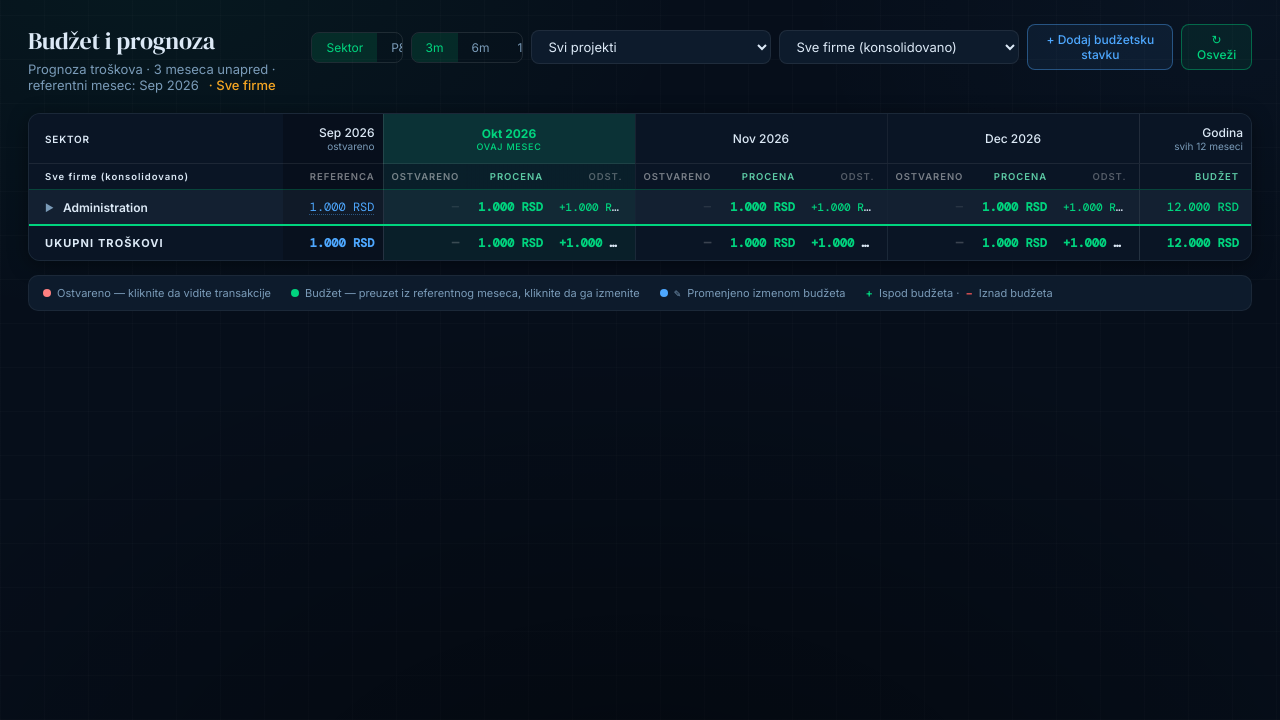
Test: adding a budget line nothing has been spent on › asks nothing about companies, and is live from the moment it opens
This screenshot has width=1280, height=720.
expect the text "Ukupni troškovi" is shown: met, box [29,225,283,260]
Click the button "+ Dodaj budžetsku stavku": (1100, 47) [1027,24,1173,70]
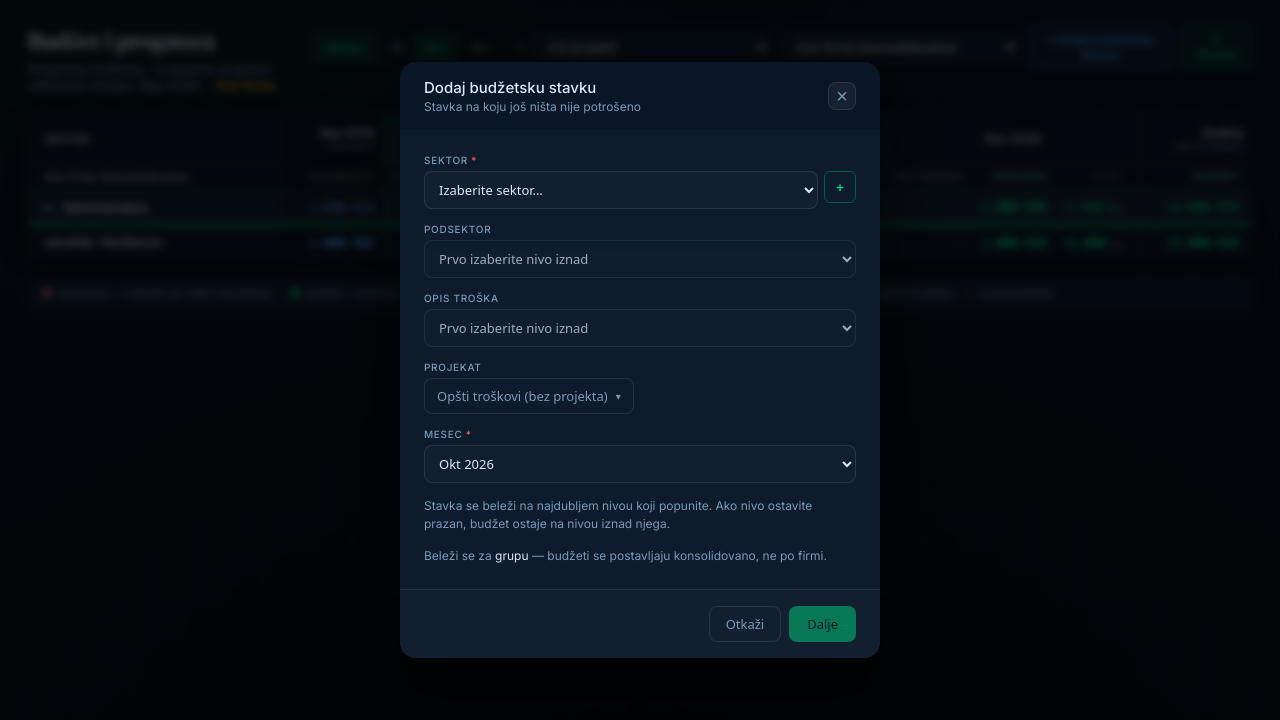
expect the text "Dodaj budžetsku stavku" is shown: met, box [424,78,596,97]
expect the dropdown named "Sektor" is shown: met
expect the dropdown named "Sektor" is enabled: met
Select "Marketing" in the dropdown named "Sektor": (621, 190) [424,171,818,209]
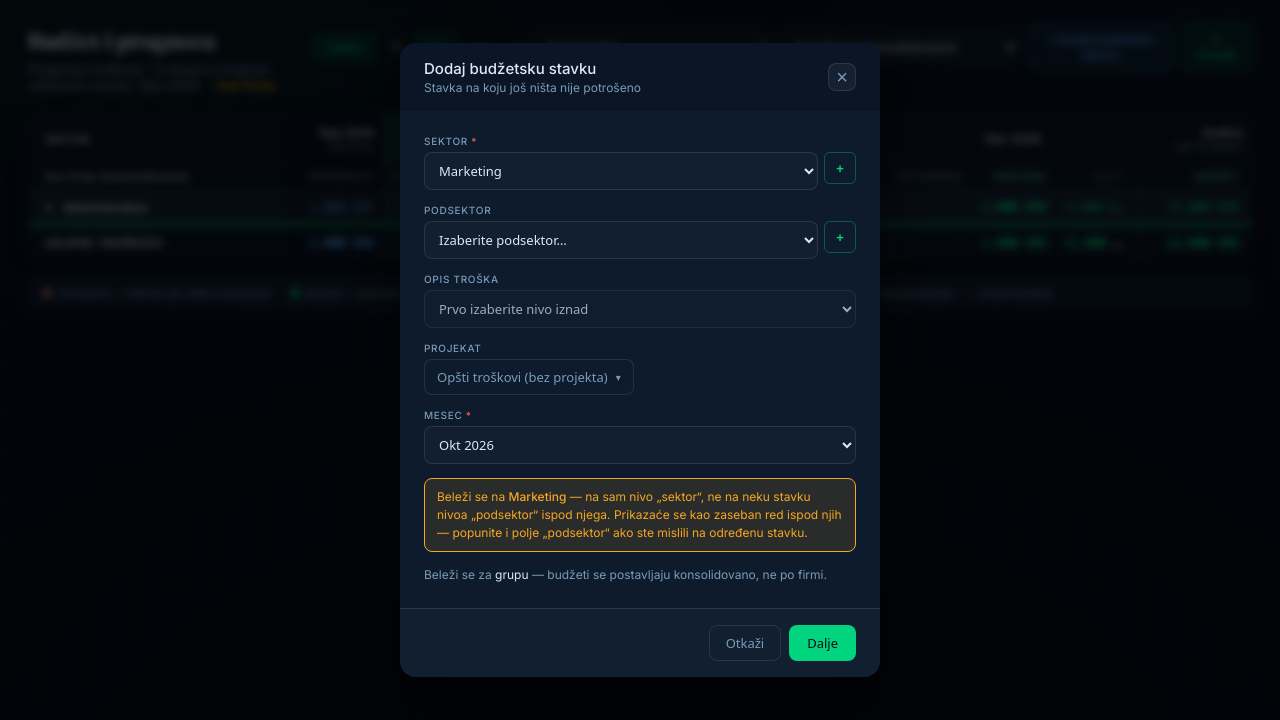
expect the text "Beleži se za" shows "grupu": met, box [495,567,528,582]
expect the button "Dalje" is enabled: met, box [789,625,856,661]
